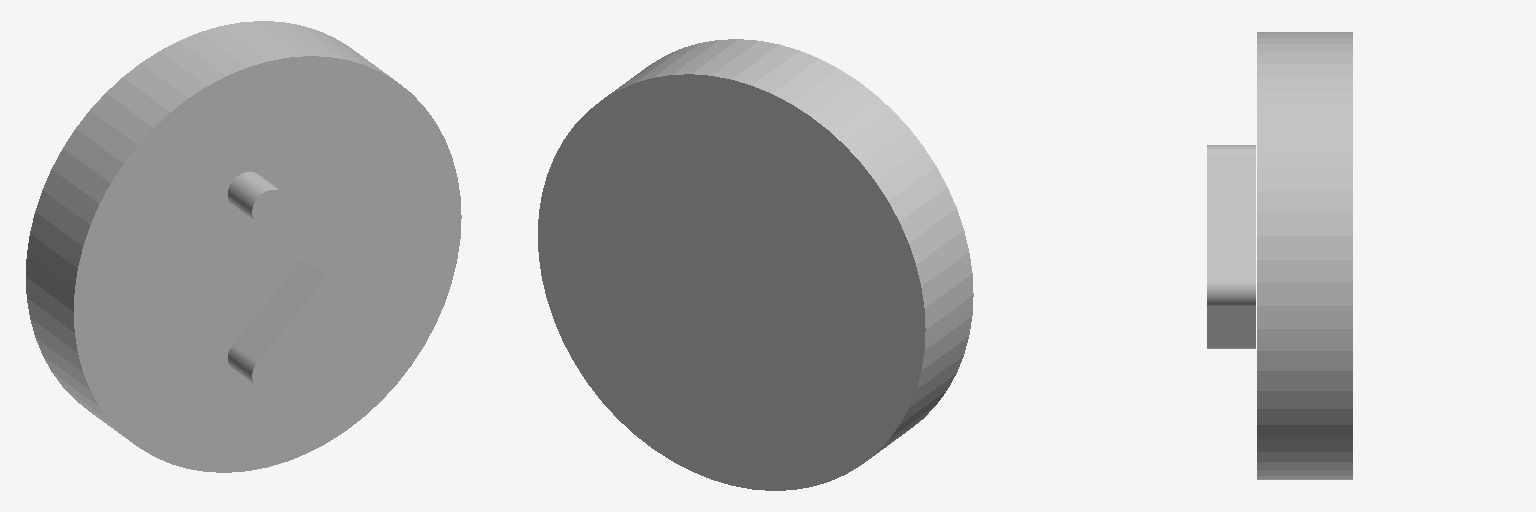
File: AR cactus copy 2.obj
3 views of the same model, side by side, from view 1: azimuth 30°, elevation 25°; view 2: azimuth 150°, elevation 25°; view 3: azimuth 270°, elevation 25° (orthographic).
Parts seen in each view (by area): view 1: 000_Cylinder_1, 001_chevron_right_24px; view 2: 000_Cylinder_1; view 3: 000_Cylinder_1, 001_chevron_right_24px.
Part boxes in pixels (x1,y1,x2,y2): 000_Cylinder_1: (26, 21, 461, 472); 001_chevron_right_24px: (228, 172, 370, 389); 000_Cylinder_1: (538, 39, 973, 490); 000_Cylinder_1: (1257, 32, 1352, 479); 001_chevron_right_24px: (1207, 145, 1255, 348).
Size of the model in its own units: 14 by 14 by 4.55.